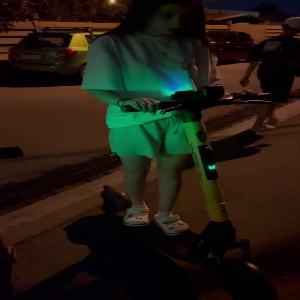human on a scooter: (80, 1, 271, 297)
